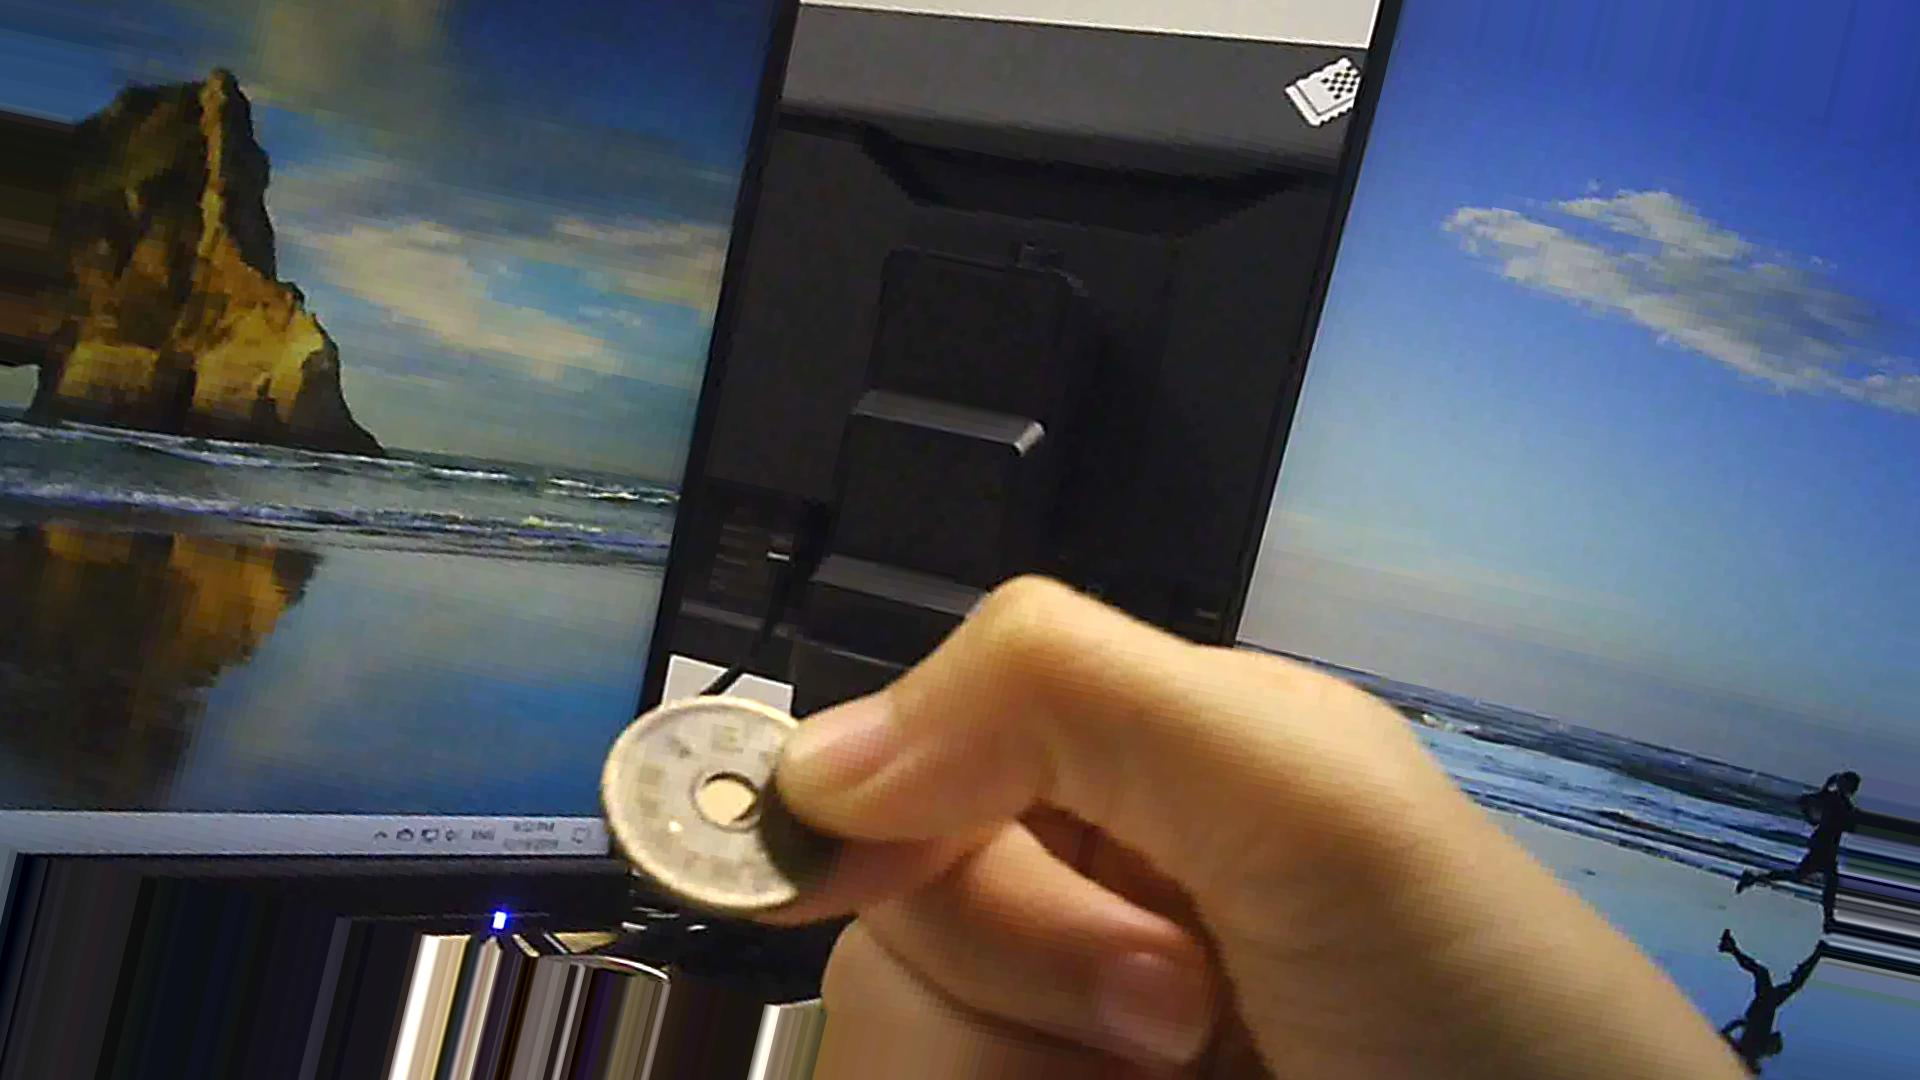5 Yen: (597, 673, 851, 910)
